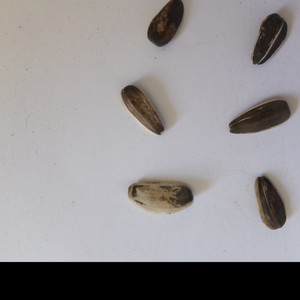girasol: (224, 97, 293, 144), (116, 83, 167, 137), (124, 179, 195, 216), (247, 12, 288, 68), (250, 172, 288, 232), (145, 1, 186, 49)
